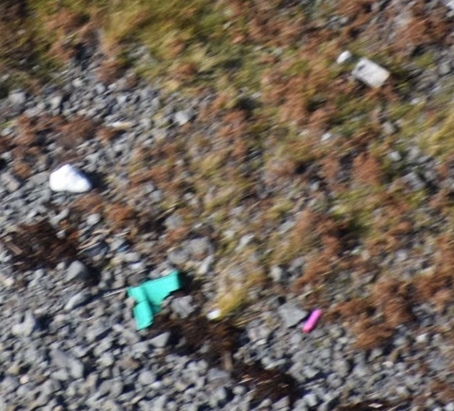white_in_green: (98, 250, 204, 348), (329, 33, 408, 105), (30, 142, 109, 213), (283, 292, 343, 346)
